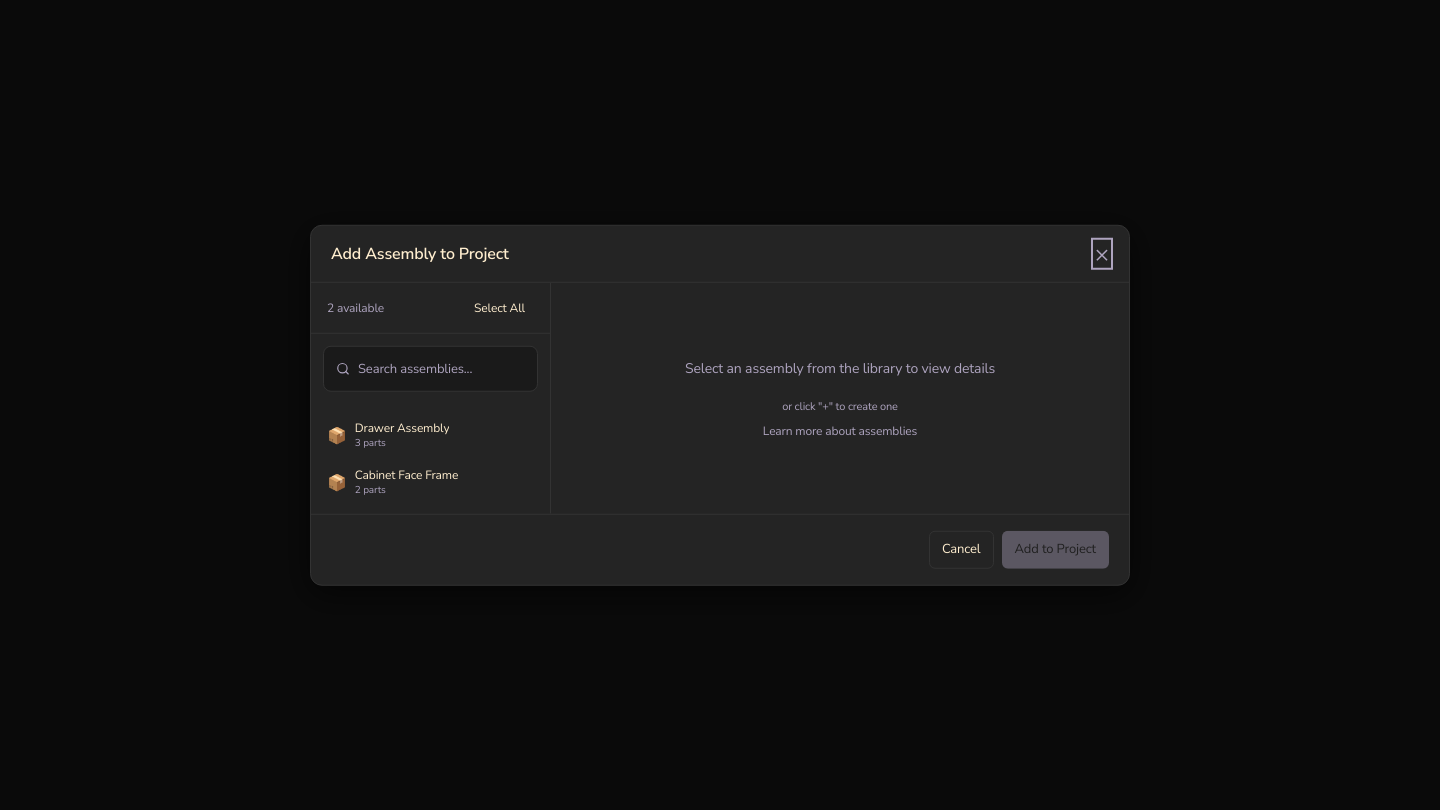
it: AddAssemblyModal › assembly selection › selects assembly when clicked
Click the text "Drawer Assembly". click: (402, 428)
box: [355, 420, 449, 436]
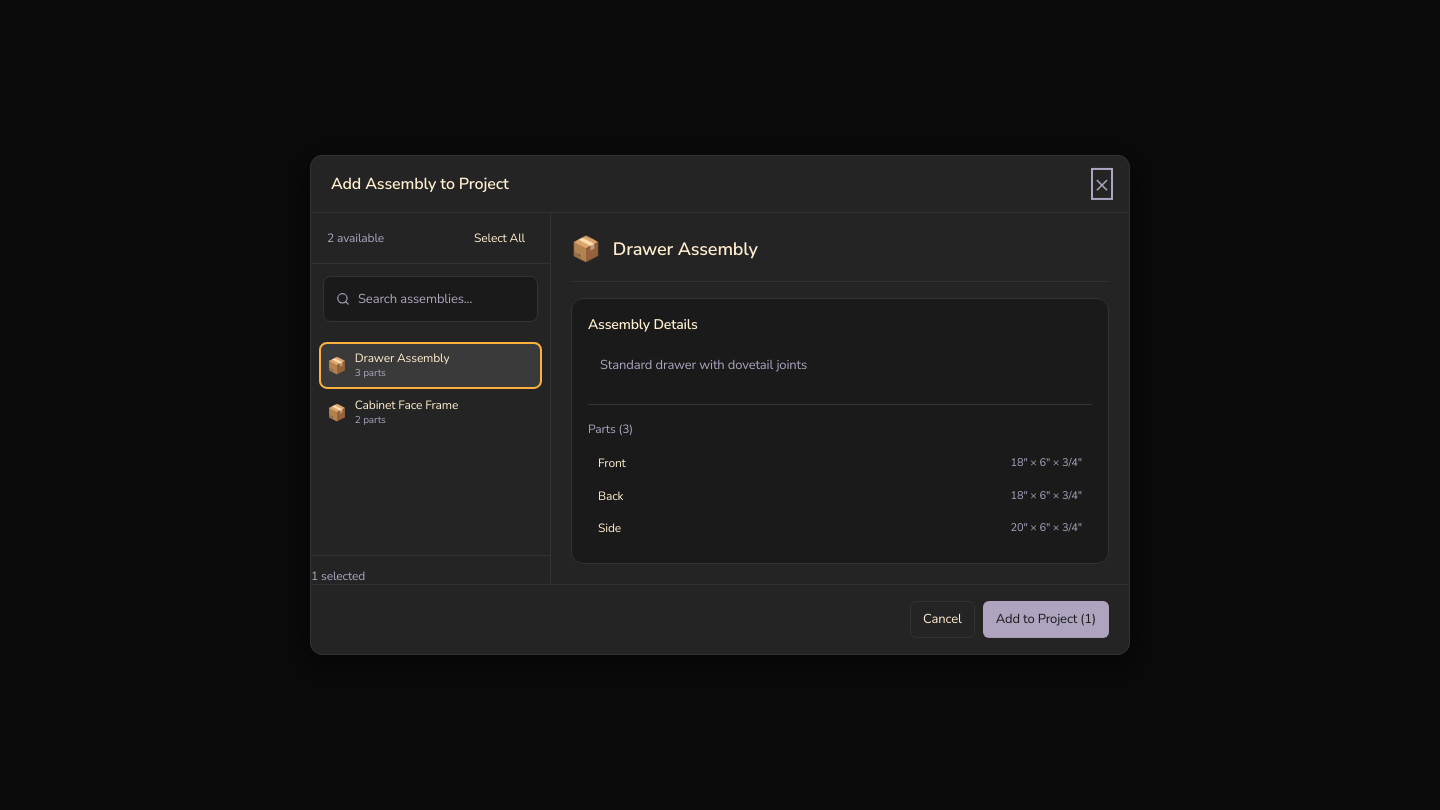
Result: the heading "📦 Drawer Assembly" is shown at [571, 233, 758, 265]
